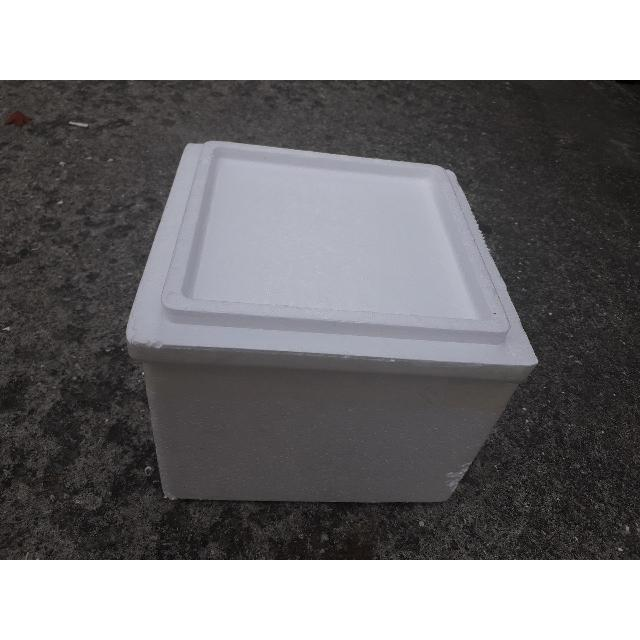Recipiente plastico: (126, 141, 538, 502)
